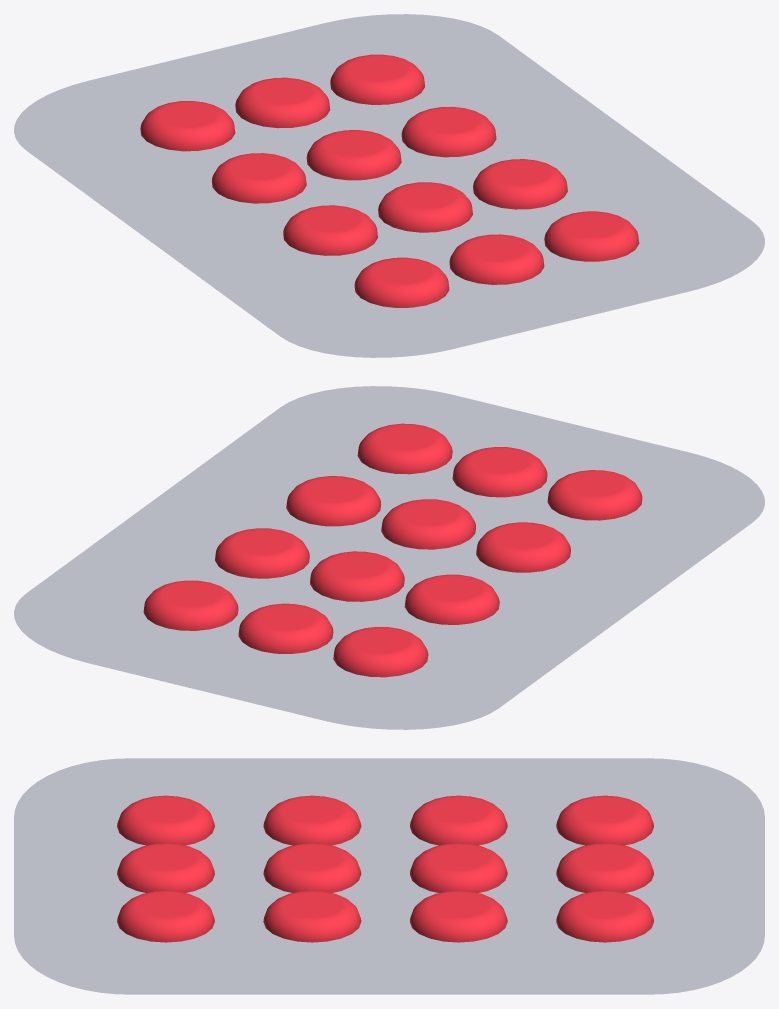
File: pills.fbx
3 renders of one model, top to bottom at view 1: azimuth 30°, elevation 25°; view 2: azimuth 150°, elevation 25°; view 3: azimuth 270°, elevation 25°, orthographic. The views are drawn at different scales.
Visible parts, largest first — view 1: pCube2, pCylinder18, pCylinder19, pCylinder25, pCylinder21, pCylinder17, pCylinder20, pCylinder23, pCylinder16, pCylinder24, pCylinder27, pCylinder22 (+1 smaller); view 2: pCube2, pCylinder16, pCylinder20, pCylinder22, pCylinder24, pCylinder25, pCylinder23, pCylinder26, pCylinder19, pCylinder21, pCylinder17, pCylinder27 (+1 smaller); view 3: pCube2, pCylinder18, pCylinder25, pCylinder22, pCylinder19, pCylinder16, pCylinder20, pCylinder26, pCylinder23, pCylinder24, pCylinder21, pCylinder27 (+1 smaller).
Part boxes in pixels (x1,y1,x2,y2): pCube2: (14, 14, 764, 357); pCylinder18: (544, 211, 639, 261); pCylinder19: (473, 159, 567, 209); pCylinder25: (330, 54, 424, 104); pCylinder21: (378, 182, 472, 232); pCylinder17: (449, 234, 544, 284); pCylinder20: (283, 205, 377, 255); pCylinder23: (211, 153, 306, 203); pCylinder16: (354, 257, 449, 307); pCylinder24: (306, 130, 401, 180); pCylinder27: (235, 77, 330, 128); pCylinder22: (401, 106, 496, 157); pCube2: (14, 386, 764, 729); pCylinder16: (547, 470, 642, 520); pCylinder20: (476, 522, 570, 572); pCylinder22: (215, 528, 309, 578); pCylinder24: (310, 551, 404, 601); pCylinder25: (143, 580, 238, 630); pCylinder23: (404, 574, 499, 624); pCylinder26: (333, 627, 428, 677); pCylinder19: (286, 476, 381, 526); pCylinder21: (381, 499, 475, 549); pCylinder17: (452, 447, 547, 497); pCylinder27: (238, 603, 333, 653); pCube2: (14, 758, 764, 994); pCylinder18: (117, 890, 214, 942); pCylinder25: (556, 890, 653, 942); pCylinder22: (410, 890, 507, 942); pCylinder19: (263, 890, 361, 942); pCylinder16: (117, 795, 214, 845); pCylinder20: (263, 795, 361, 845); pCylinder26: (556, 795, 653, 845); pCylinder23: (410, 795, 507, 845); pCylinder24: (410, 843, 507, 892); pCylinder21: (263, 843, 361, 892); pCylinder27: (556, 843, 653, 892).
Size of the model in its own units: 184 by 6.55 by 247.
